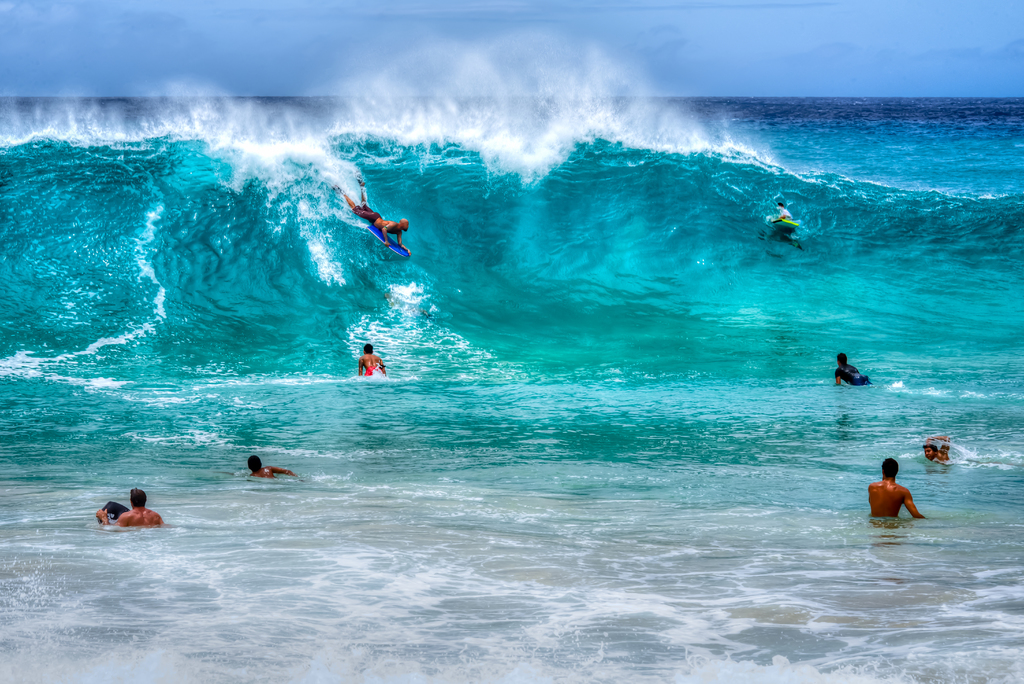person: (93, 487, 166, 527)
